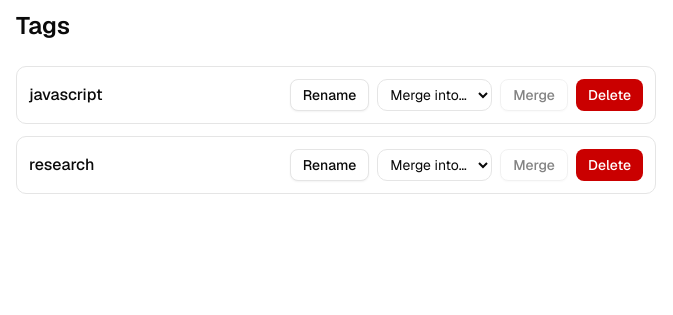
Test case: TagManagementView › deletes a tag after confirmation and removes it from the list
Expected: the text "javascript" is shown, top-left (29, 83), bottom-right (103, 107)
Click the button "Delete" in the row of "javascript". click: (609, 95)
box: top-left (576, 79), bottom-right (643, 111)
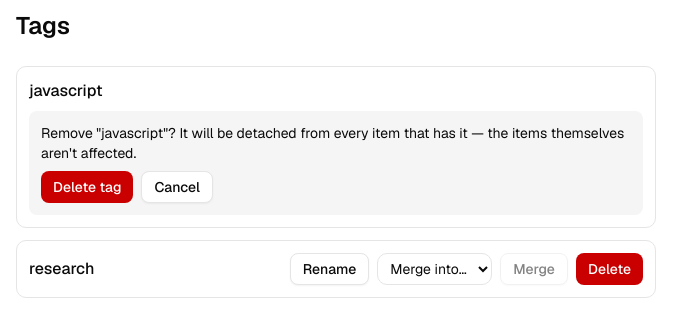
Click the button "Delete tag". click: (87, 187)
box: top-left (41, 171), bottom-right (133, 203)
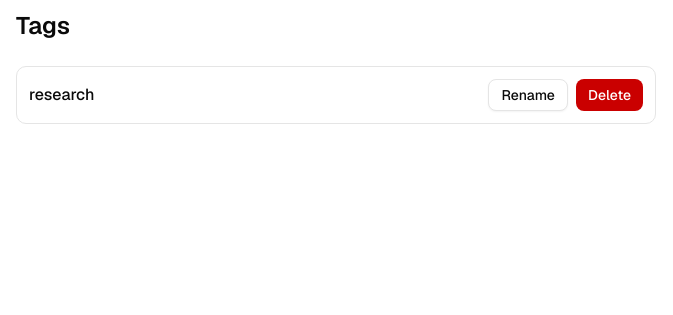
Expected: the text "research" is shown, top-left (29, 83), bottom-right (94, 107)
Expected: the text "javascript" is gone
